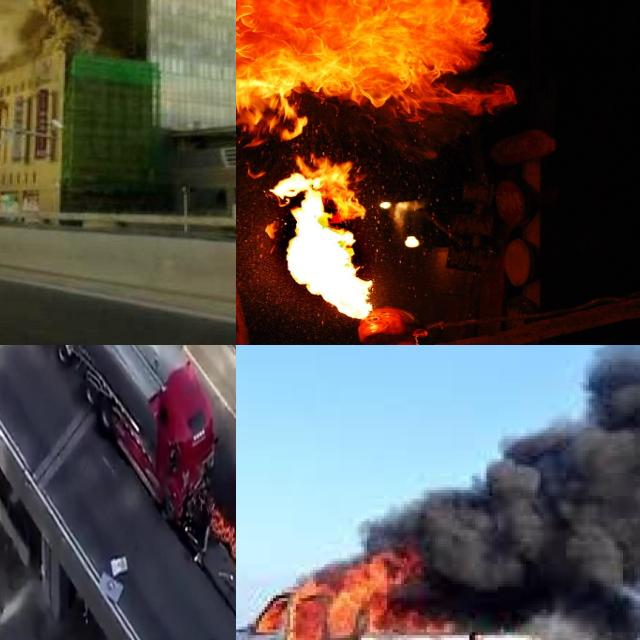fire: (236, 0, 526, 227), (250, 558, 466, 640), (209, 503, 236, 570)
smoke: (364, 345, 640, 629), (0, 0, 236, 69)
